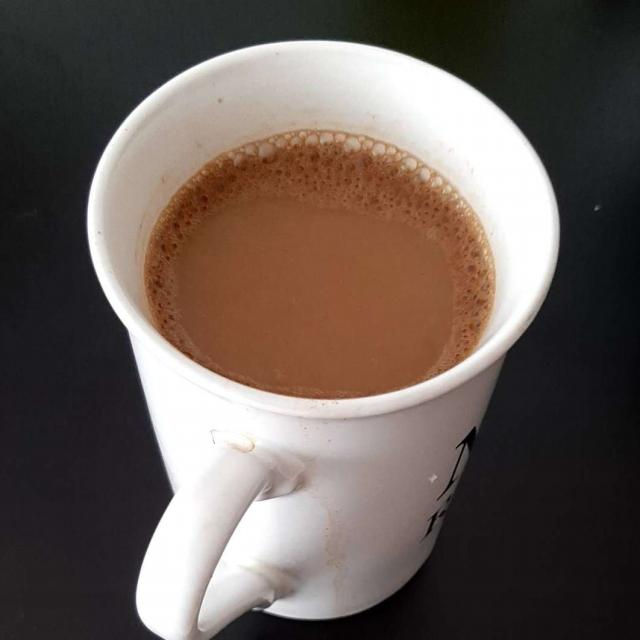white-coffee-with-caffeine: (137, 148, 492, 394)
